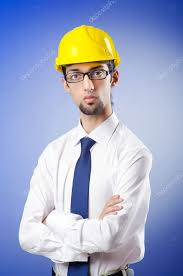Person_wearing_helmet: (55, 19, 123, 88)
